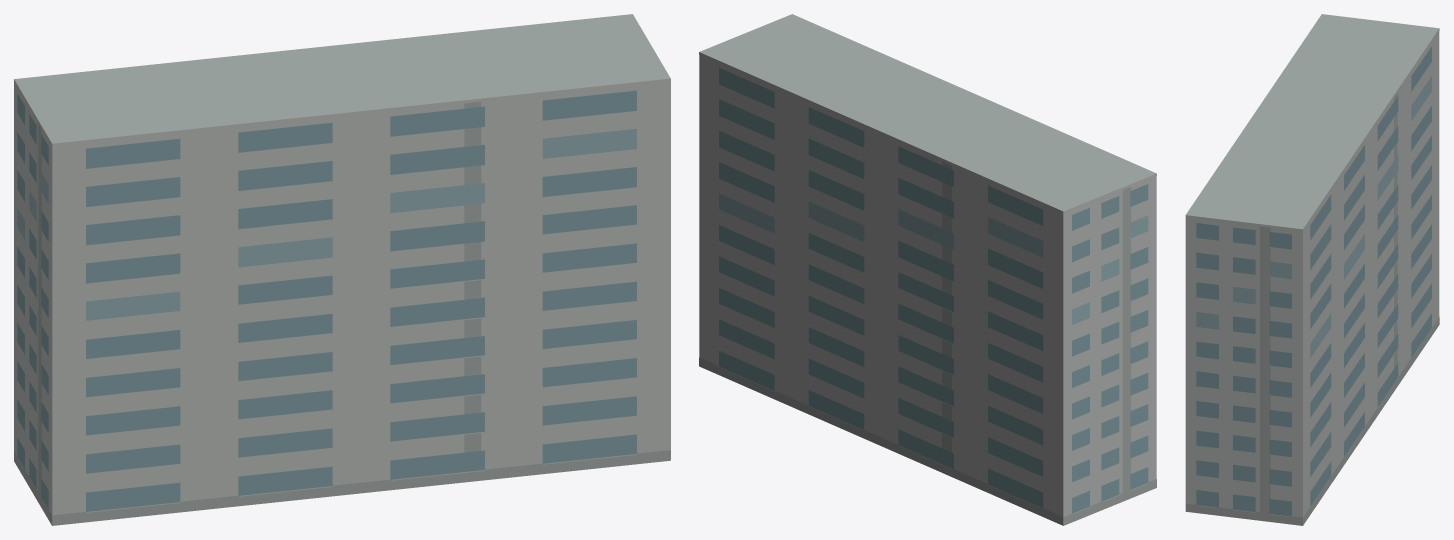
The model's file is residential-b7362a61-c6a1-4fdc-a071-c150872b7252.glb.
The picture shows the model from 3 angles, left to right: view 1: azimuth 30°, elevation 25°; view 2: azimuth 150°, elevation 25°; view 3: azimuth 270°, elevation 25°; orthographic projection. The views are drawn at different scales.
Visible parts, largest first — view 1: residential-b7362a61-c6a1-4fdc-a071-c150872b7252.tmp; view 2: residential-b7362a61-c6a1-4fdc-a071-c150872b7252.tmp; view 3: residential-b7362a61-c6a1-4fdc-a071-c150872b7252.tmp.
Boxes of the visible parts, <box> form: residential-b7362a61-c6a1-4fdc-a071-c150872b7252.tmp: <box>14,14,670,525</box>; residential-b7362a61-c6a1-4fdc-a071-c150872b7252.tmp: <box>699,14,1156,525</box>; residential-b7362a61-c6a1-4fdc-a071-c150872b7252.tmp: <box>1185,14,1439,525</box>.
Size of the model in its own units: 45.15 by 29 by 22.51.
